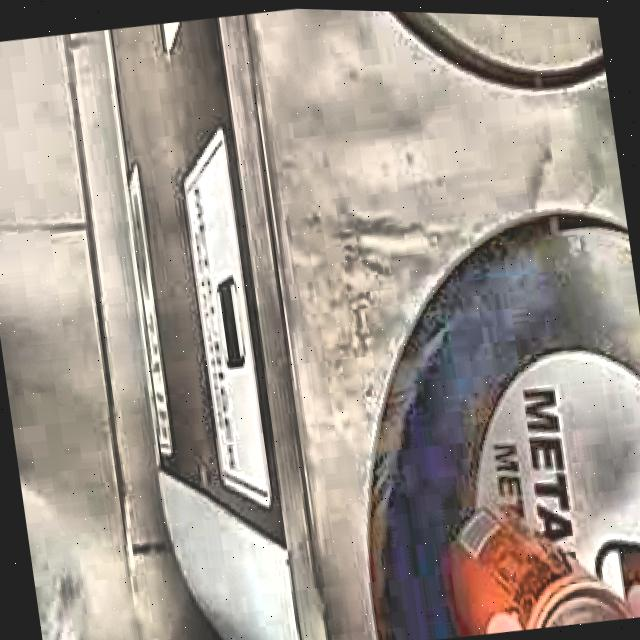metal: (451, 507, 630, 633)
